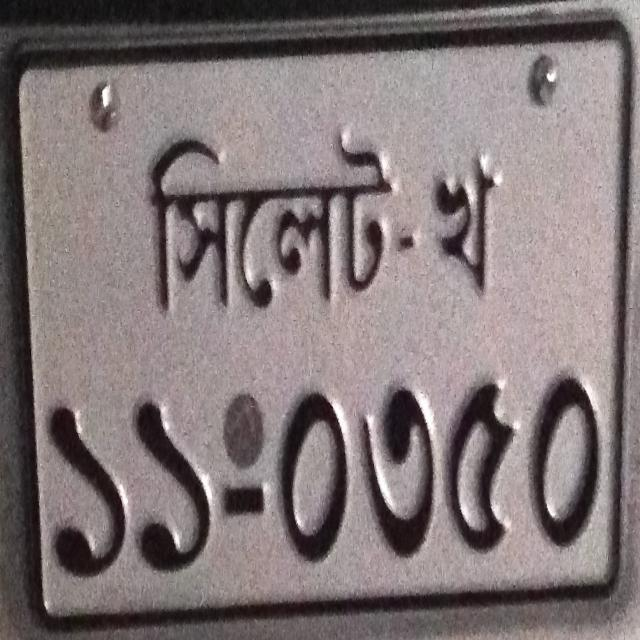numberplate: (1, 2, 638, 630)
